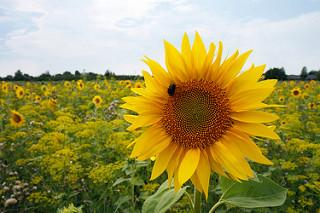sunflower: (123, 31, 283, 195), (117, 33, 118, 34)
